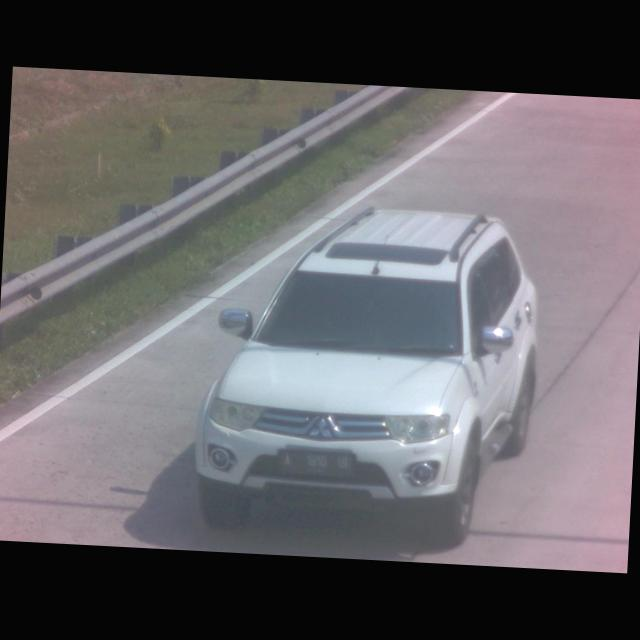plate: (274, 449, 354, 481)
